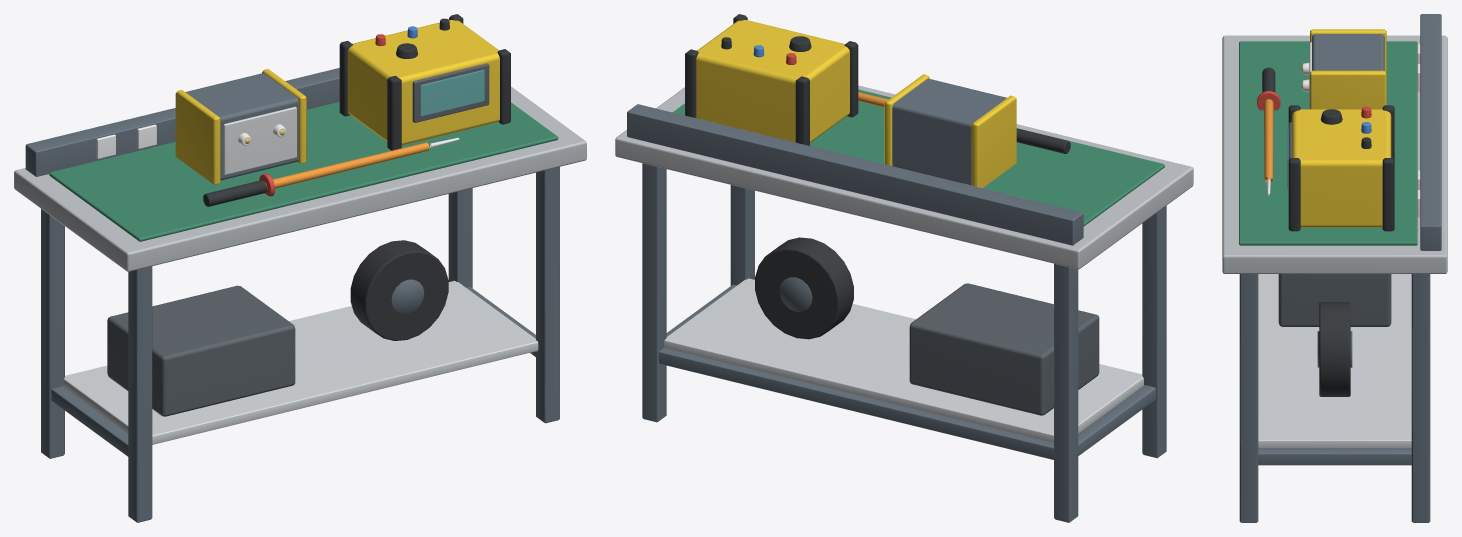
Rendered from test-bench.glb.
3 renders of one model, left to right at view 1: azimuth 30°, elevation 25°; view 2: azimuth 150°, elevation 25°; view 3: azimuth 270°, elevation 25°, orthographic. The views are drawn at different scales.
Parts seen in each view (by area): view 1: TestBenchAssembly; view 2: TestBenchAssembly; view 3: TestBenchAssembly.
Boxes of the visible parts, x1,y1,x2,y2 form: TestBenchAssembly: (14,14,586,522); TestBenchAssembly: (615,14,1193,522); TestBenchAssembly: (1222,14,1447,522).
Bounding box in the file's own units: 1.58 × 1.2 × 0.68.
